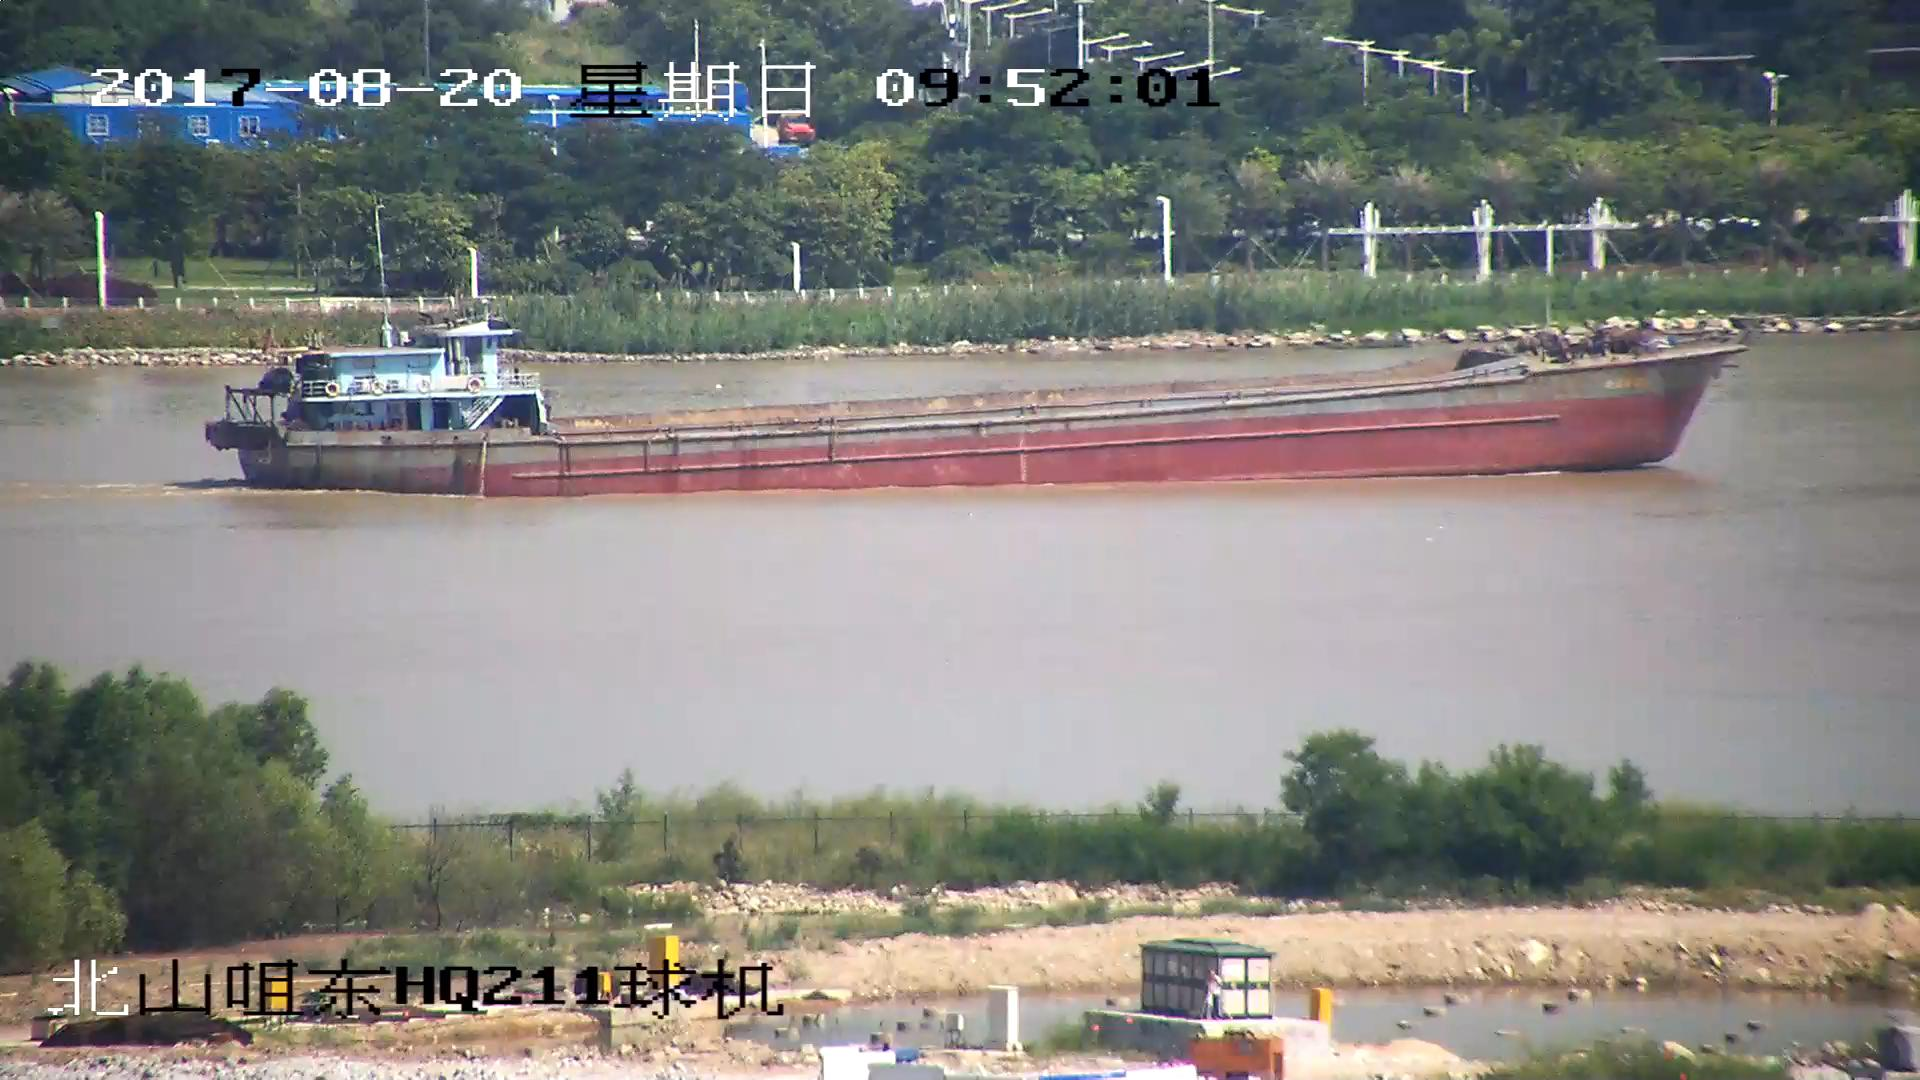bulk cargo carrier: (215, 316, 1741, 499)
